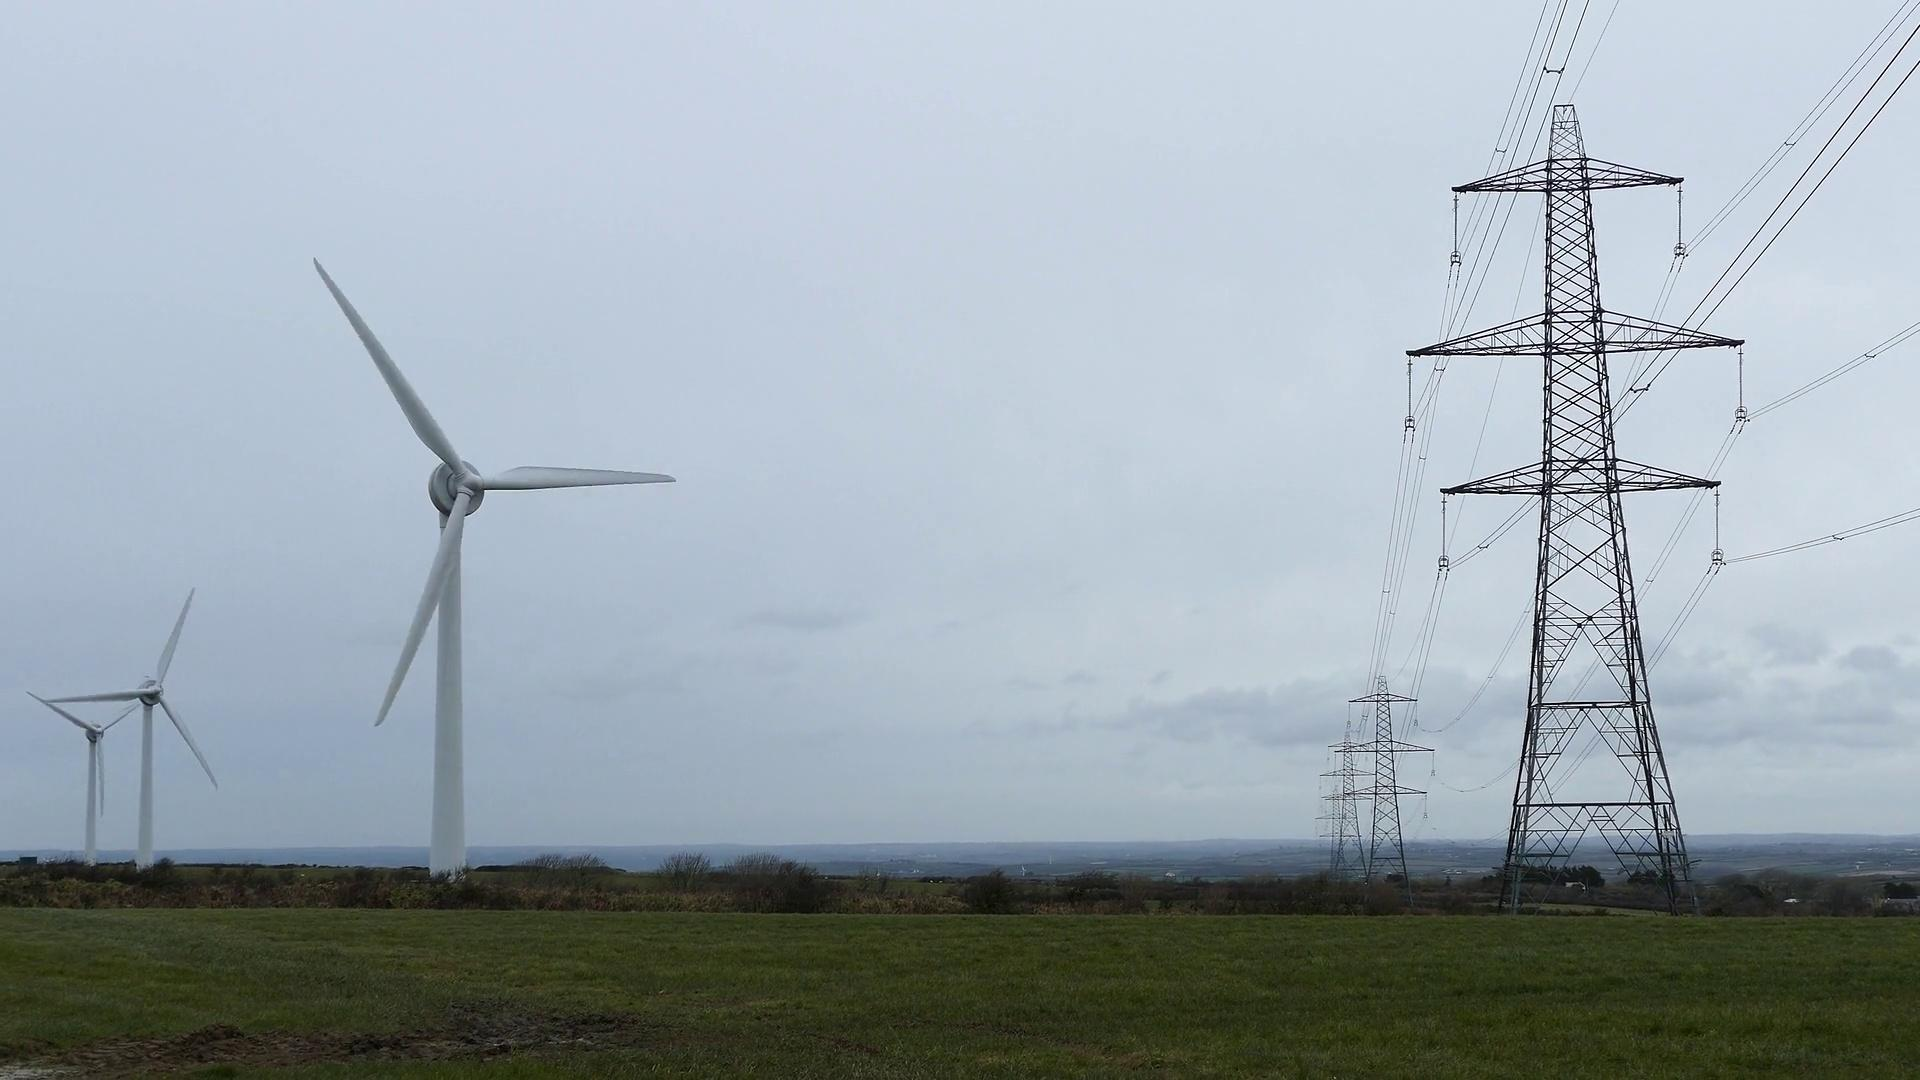cable tower: (1400, 102, 1749, 926), (1335, 673, 1436, 909), (1317, 729, 1375, 884), (1313, 783, 1352, 872)
turbine: (218, 175, 740, 949), (63, 579, 293, 918), (37, 633, 193, 887)
